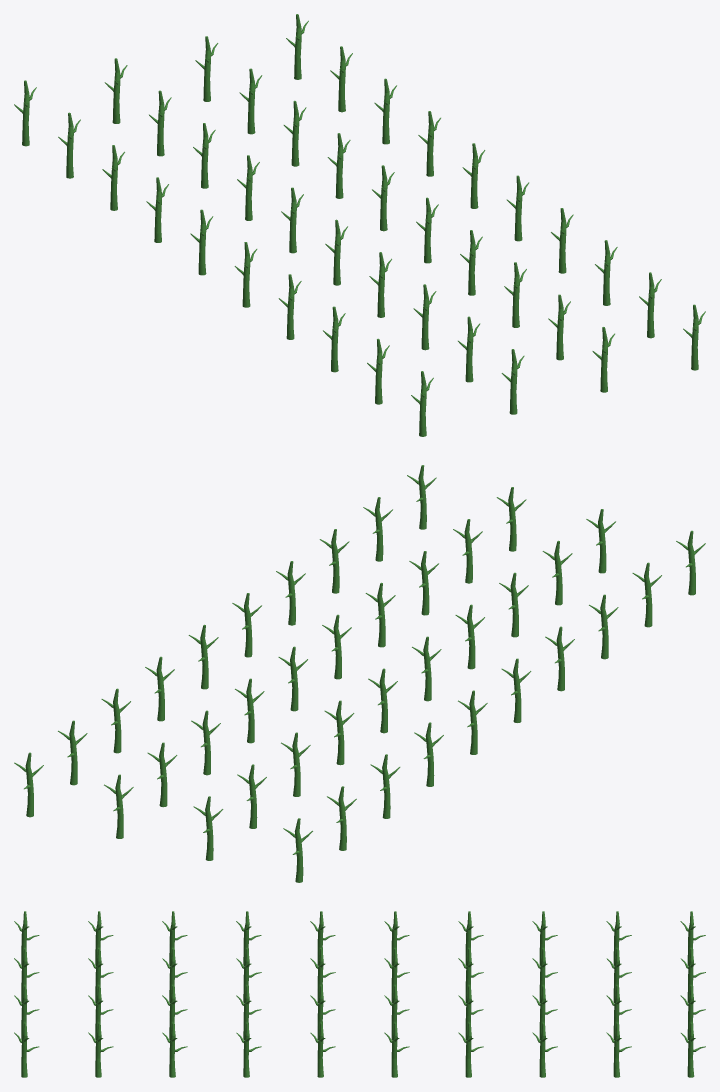
Rendered from GardenBed_PlantsGreen 2.fbx.
3 views of the same model, one above another, from view 1: azimuth 30°, elevation 25°; view 2: azimuth 150°, elevation 25°; view 3: azimuth 270°, elevation 25° (orthographic). The views are drawn at different scales.
Visible parts, largest first — view 1: GreenHouse1.007; view 2: GreenHouse1.007; view 3: GreenHouse1.007.
Boxes of the visible parts, bbox=[...] form: GreenHouse1.007: bbox=[14, 14, 705, 436]; GreenHouse1.007: bbox=[14, 465, 705, 882]; GreenHouse1.007: bbox=[14, 911, 705, 1077].
Size of the model in its own units: 140 by 28.89 by 340.
